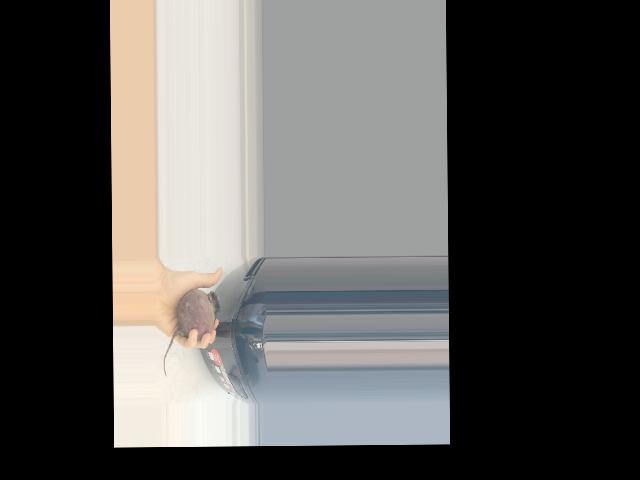beet: (162, 289, 220, 377)
